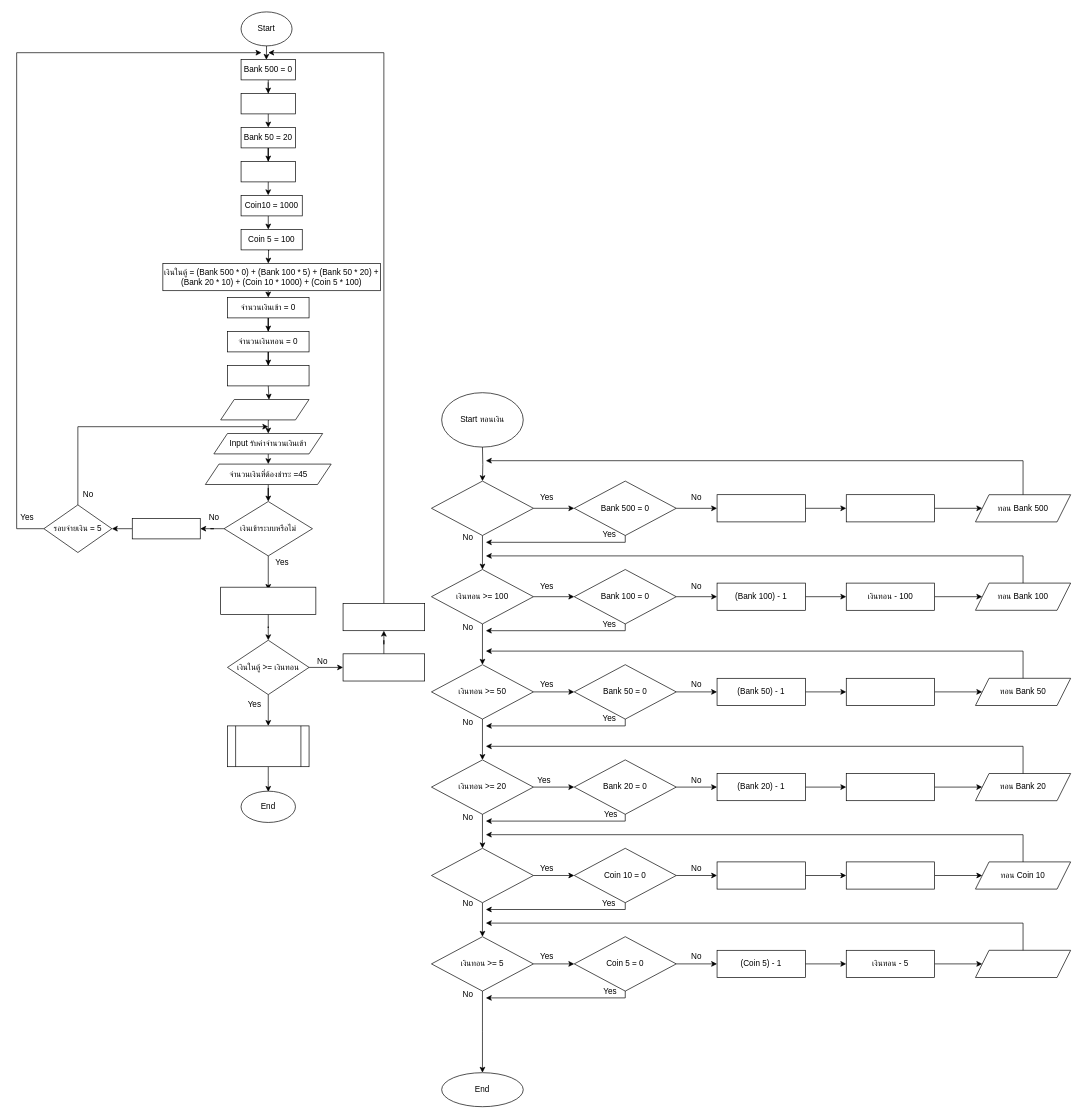
This 1083x1119 diagram has some shape labels left out. Each missing label, with the centre of its shape:
(Bank 500) - 1: (x=760, y=508)
(Coin 10) - 1: (x=760, y=875)
Bank 100 = 5: (x=267, y=103)
Bank 20 = 10: (x=267, y=171)
กดเลือกของ: (x=264, y=409)
กรุณาเลือกของในตู้: (x=268, y=375)
คืนเงินตามจำนวนเงินเข้า: (x=383, y=617)
จำนวนเงินเข้า - ราคาสินค้า = เงินทอน: (x=268, y=600)
ทอน Coin 5: (x=1023, y=964)
ทอนเงิน: (x=268, y=746)
รอบจ่ายเงิน + 1: (x=166, y=528)
เงินทอน - 10: (x=890, y=875)
เงินทอน - 20: (x=890, y=787)
เงินทอน - 50: (x=890, y=692)
เงินทอน - 500: (x=890, y=508)
เงินทอน >= 10: (x=482, y=875)
เงินทอน >= 500: (x=482, y=508)
แสดง "เงินทอนไม่พอ": (x=383, y=667)
